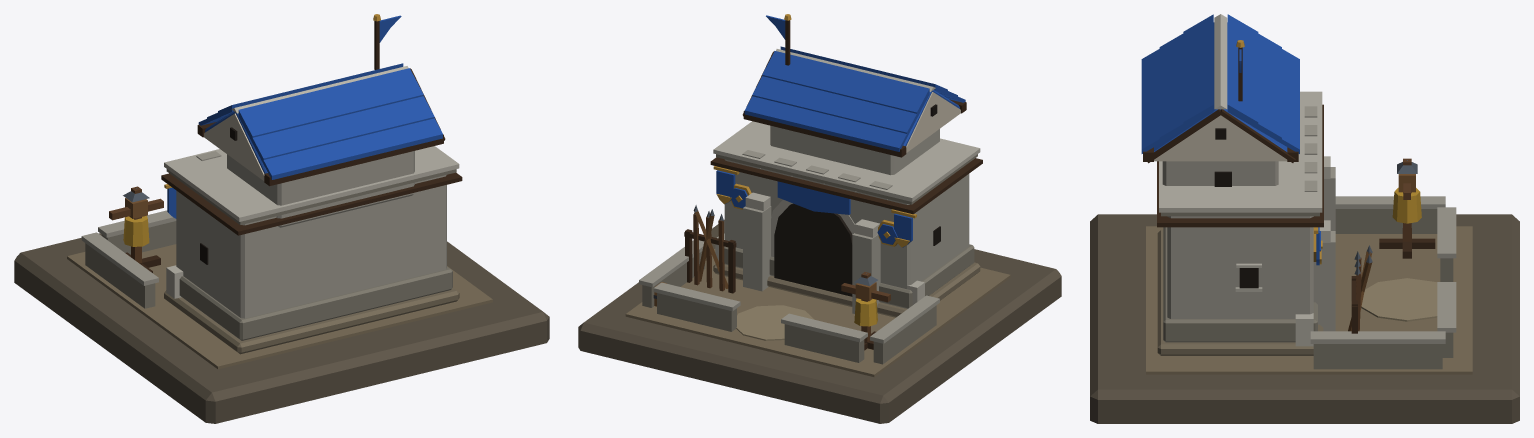
3 views of the same model, side by side, from view 1: azimuth 30°, elevation 25°; view 2: azimuth 150°, elevation 25°; view 3: azimuth 270°, elevation 25° (orthographic). The views are drawn at different scales.
Visible parts, largest first — view 1: 兵营_2星; view 2: 兵营_2星; view 3: 兵营_2星.
Part boxes in pixels (box(x1,y1,x2,y2)): 兵营_2星: box(14, 14, 549, 423); 兵营_2星: box(578, 14, 1061, 423); 兵营_2星: box(1090, 14, 1519, 423).
Bounding box in the file's own units: 1 × 0.838 × 1.
